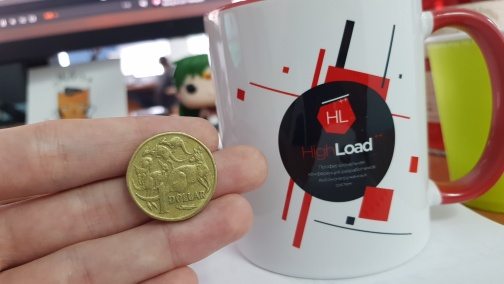coin: (126, 131, 217, 222)
